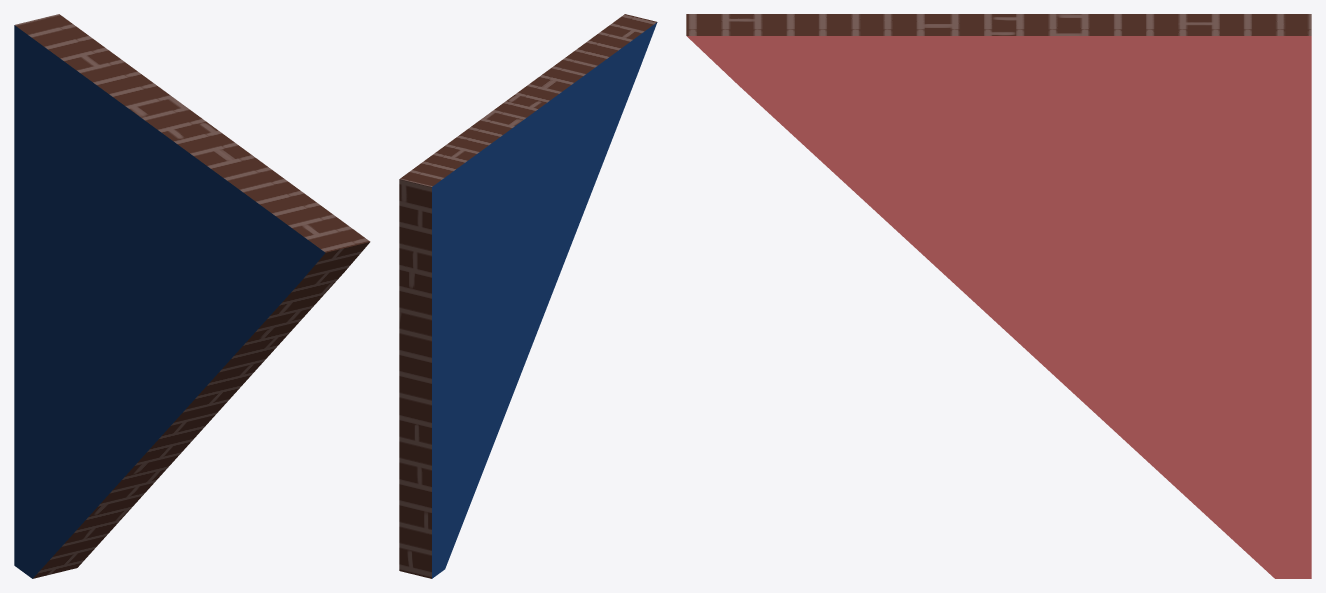
The model's file is wall12.FBX.
The picture shows the model from 3 angles, left to right: view 1: azimuth 30°, elevation 25°; view 2: azimuth 150°, elevation 25°; view 3: azimuth 270°, elevation 25°; orthographic projection. The views are drawn at different scales.
Visible parts, largest first — view 1: wall12; view 2: wall12; view 3: wall12.
Part boxes in pixels (box(x1,y1,x2,y2)): wall12: box(14, 14, 370, 578); wall12: box(399, 14, 657, 578); wall12: box(686, 14, 1311, 578).
Bounding box in the file's own units: 50 × 575 × 600.
3 materials, 1 textured.
